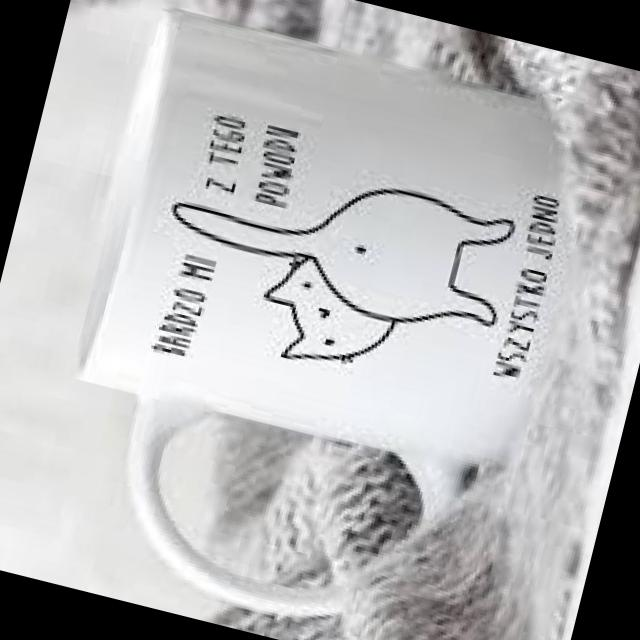Coffee Mug: (25, 5, 591, 640)
